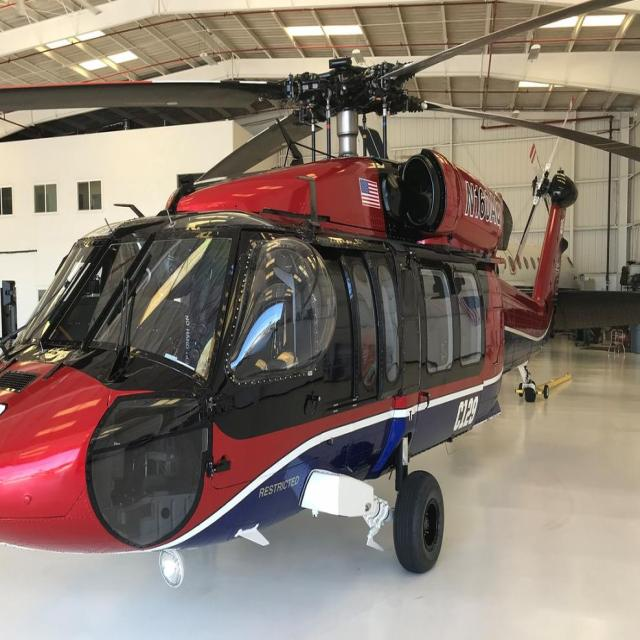helicopter: (1, 1, 640, 592)
